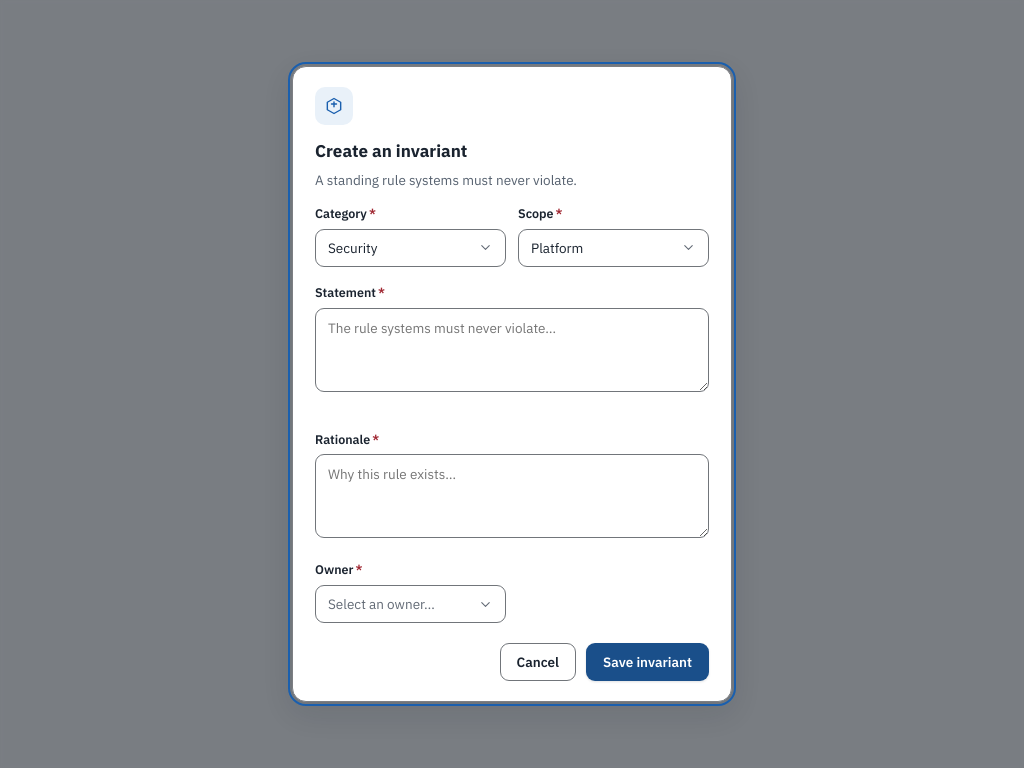
Scenario: CreateInvariantDialog (P11d) › validates statement, rationale and owner before submitting
The width and height of the screenshot is (1024, 768).
Click the button "Save invariant": click(648, 662) [586,643,709,681]
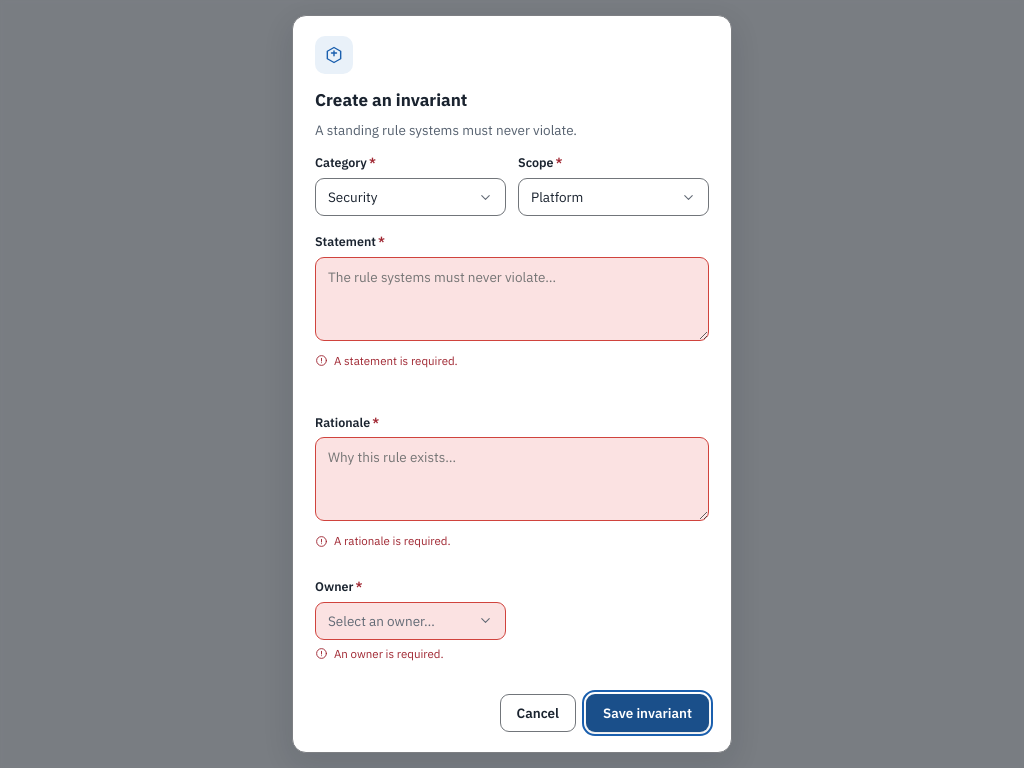
Check: the text "A statement is required." is shown, box [315,353,458,368]
Check: the text "A rationale is required." is shown, box [315,533,451,548]
Check: the text "An owner is required." is shown, box [315,646,444,661]
